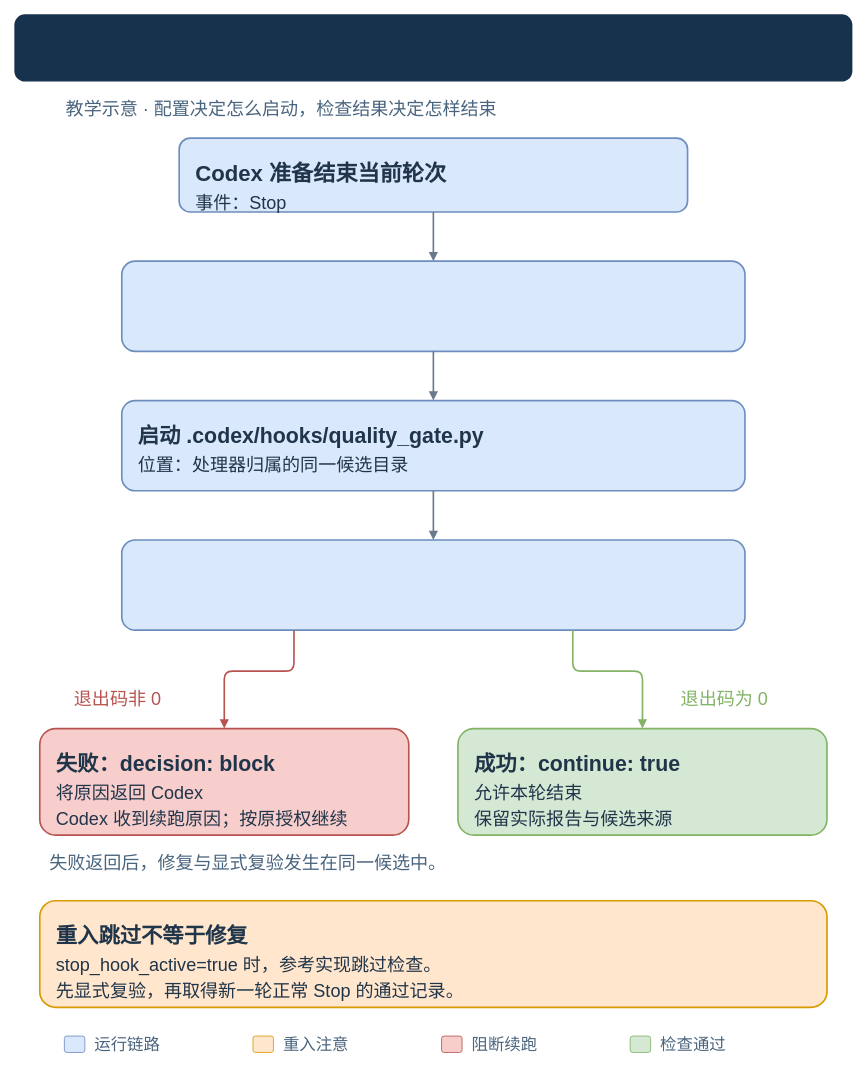
Image size: 866x1070. Some labels were removed from this diagram. Here are the shapes that lost their labels. From the top down, the centre of each, then its label:
At pixel 433 47: "L07｜真实 Stop 事件怎样变成质量护栏".
At pixel 433 306: "匹配已加载的项目 Stop 规则 前提：该候选的项目 Hook 已审查并信任".
At pixel 433 585: "用同候选解释器运行统一检查 python -X utf8 -m eval.harness --suite blocking".
